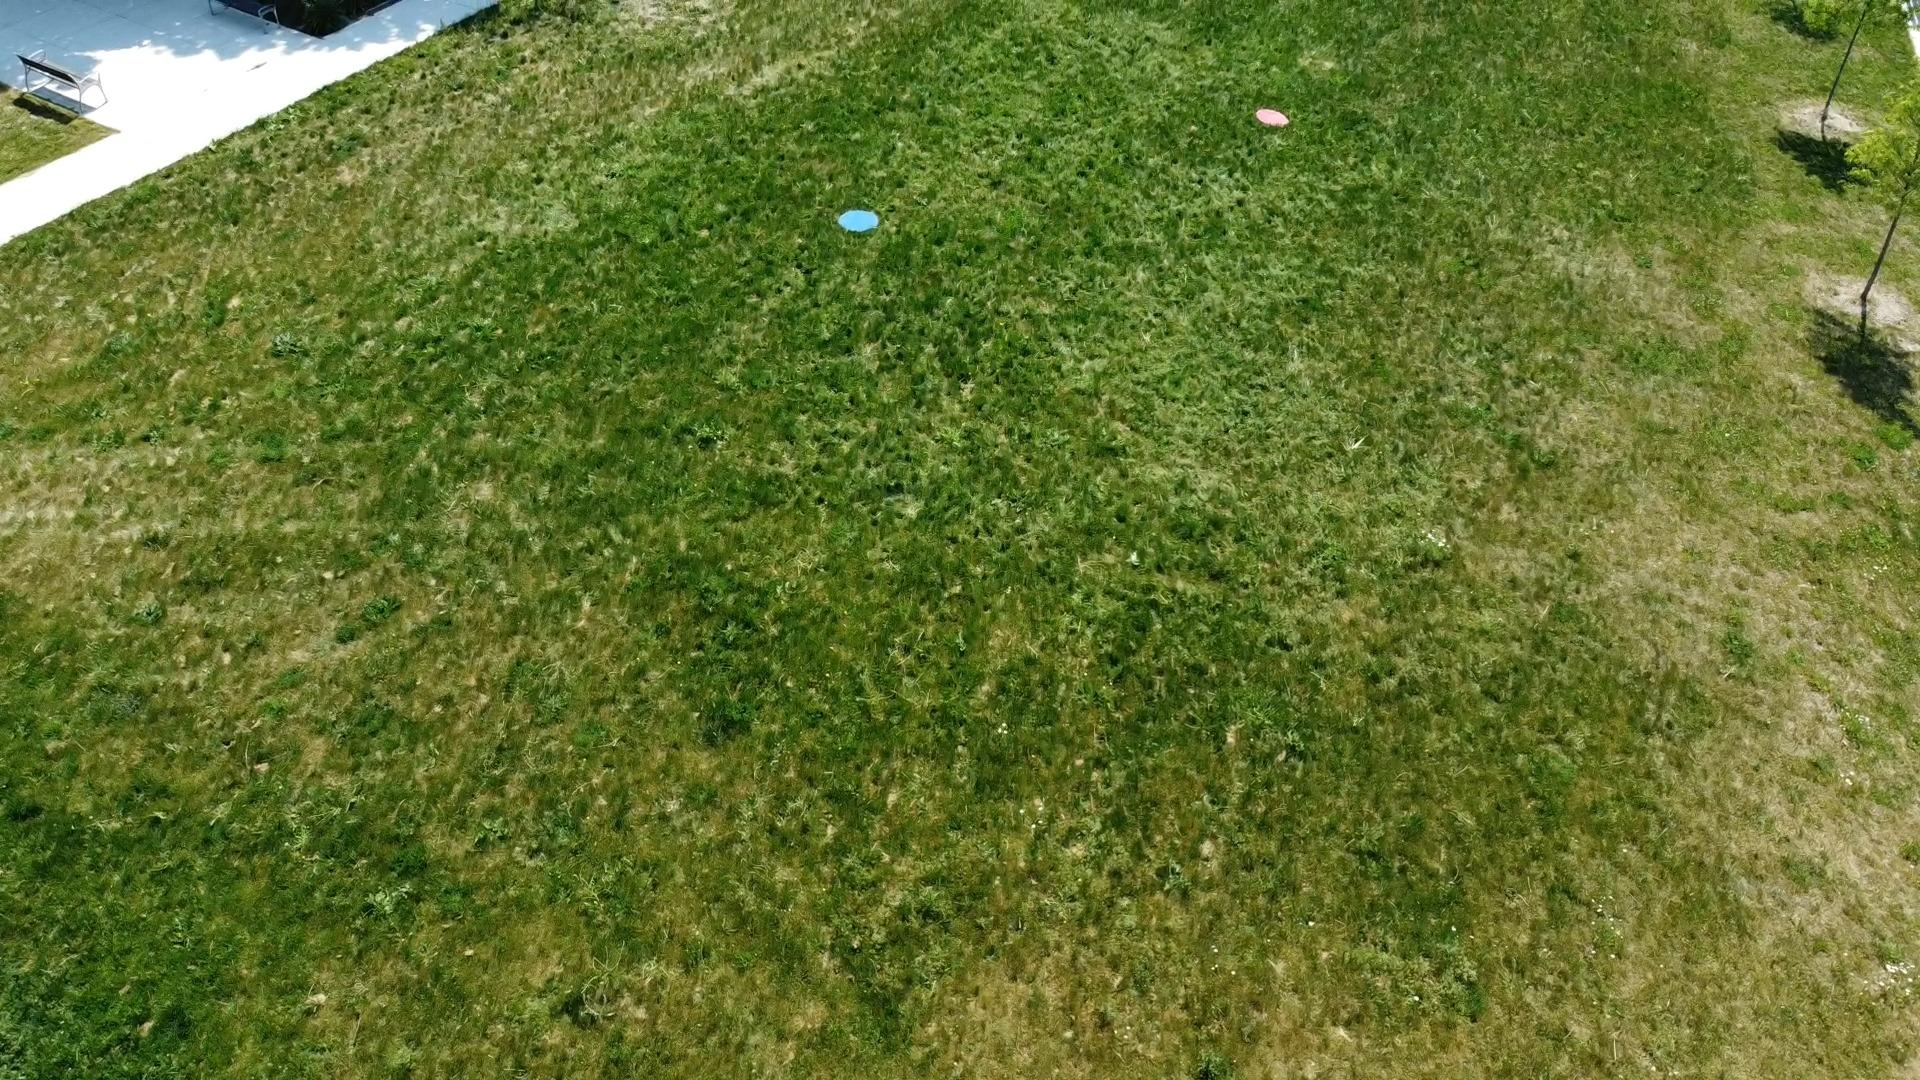Blue: (836, 206, 881, 233)
Red: (1253, 107, 1292, 129)
